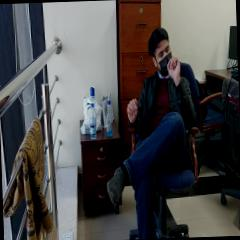not-gloved: (167, 56, 181, 86), (127, 98, 139, 123)
